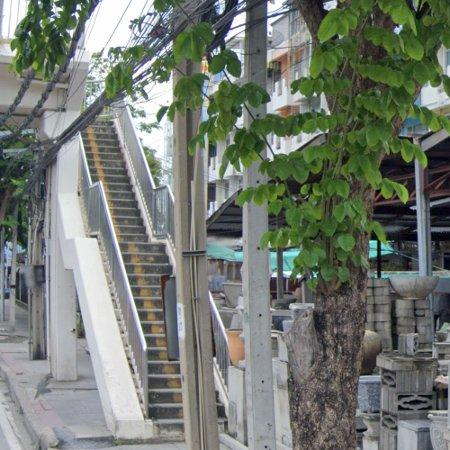stairs: (82, 120, 183, 433)
